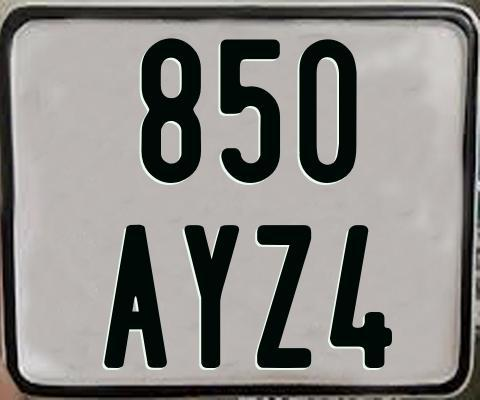0: (297, 39, 357, 188)
4: (327, 222, 394, 365)
5: (218, 38, 283, 187)
8: (141, 35, 203, 185)
A: (103, 223, 171, 368)
Y: (182, 225, 241, 372)
Z: (257, 222, 314, 367)
